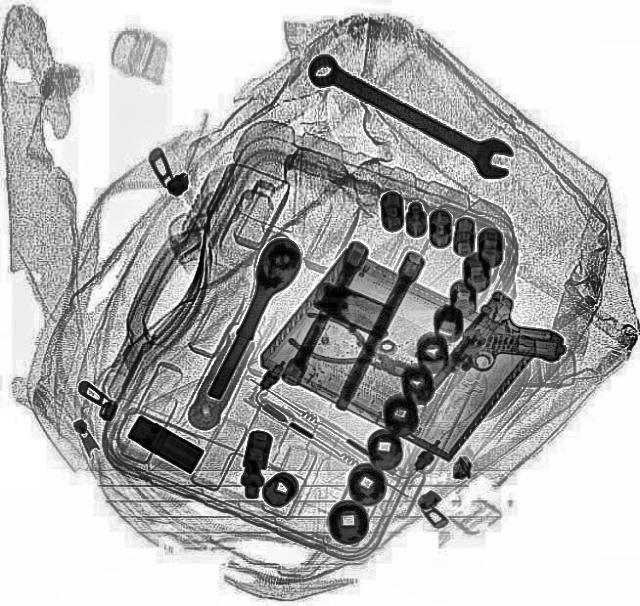Gun: (408, 286, 576, 440)
Pliers: (284, 304, 426, 394)
Wrench: (299, 45, 521, 184)
